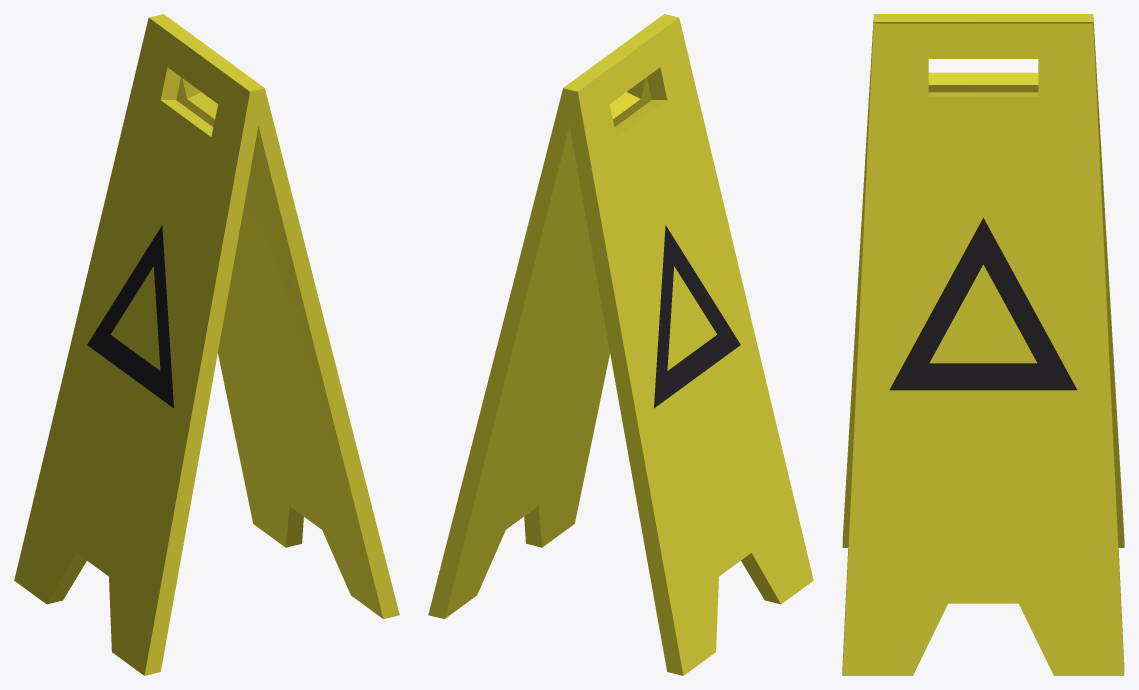
Rendered from WetFloorSignSeparate.fbx.
3 views of the same model, side by side, from view 1: azimuth 30°, elevation 25°; view 2: azimuth 150°, elevation 25°; view 3: azimuth 270°, elevation 25° (orthographic). The views are drawn at different scales.
Parts seen in each view (by area): view 1: WetFloorSignL, WetFloorSignR; view 2: WetFloorSignL, WetFloorSignR; view 3: WetFloorSignR, WetFloorSignL.
Boxes of the visible parts, box(x1,y1,x2,y2) form: WetFloorSignL: box(14, 14, 264, 675); WetFloorSignR: box(176, 77, 399, 619); WetFloorSignL: box(563, 14, 813, 675); WetFloorSignR: box(428, 77, 651, 618); WetFloorSignR: box(842, 20, 1124, 675); WetFloorSignL: box(842, 14, 1124, 547).
Size of the model in its own units: 0.3157 by 0.645 by 0.2791.
